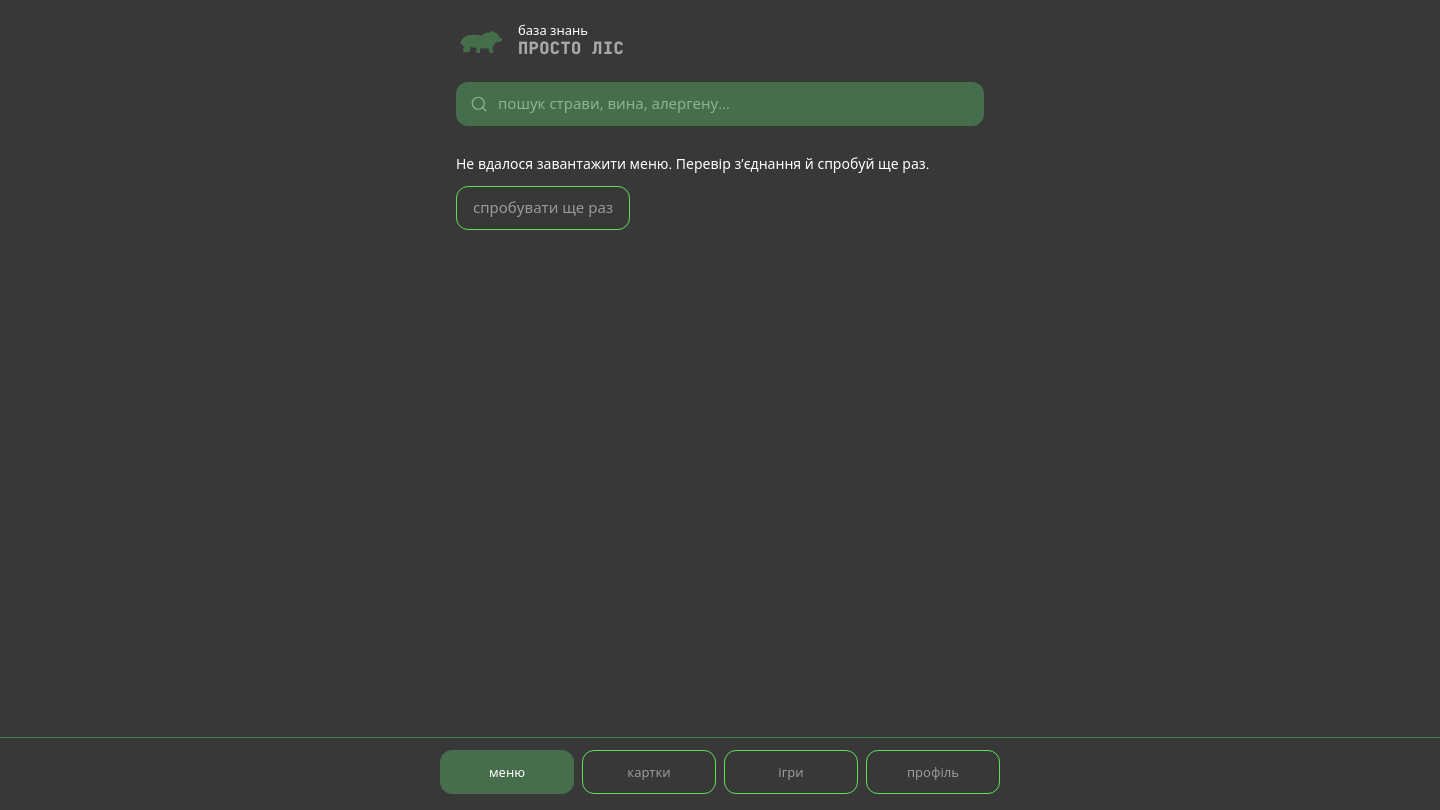
Test: menu loading and errors › offers a retry when loading fails, and recovers
Check: the message shows "Не вдалося завантажити меню", box [456,154,929,172]
Click the button "спробувати ще раз" at (543, 208), box [456,186,630,230]
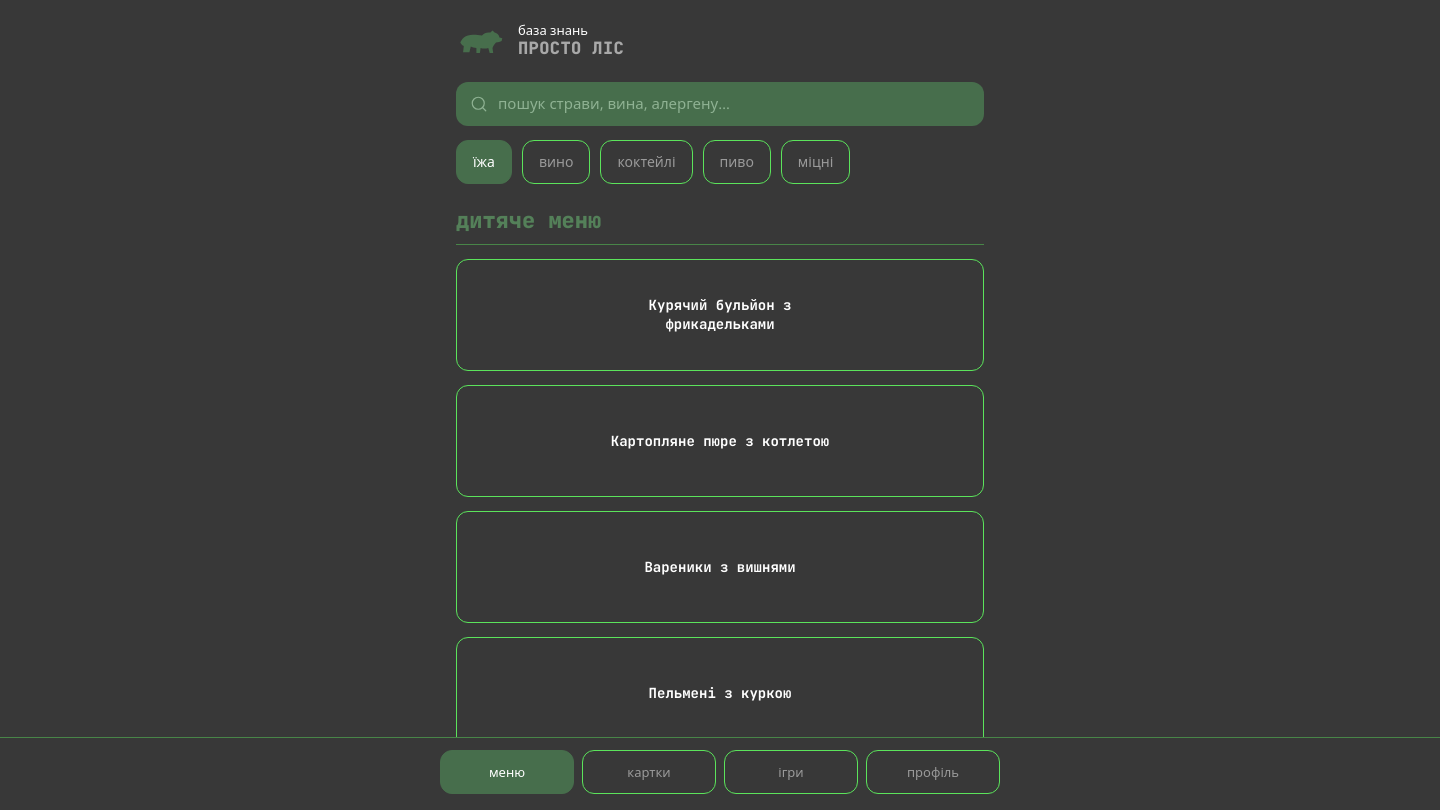
Check: the heading "дитяче меню" is shown, box [456,206,984,245]
